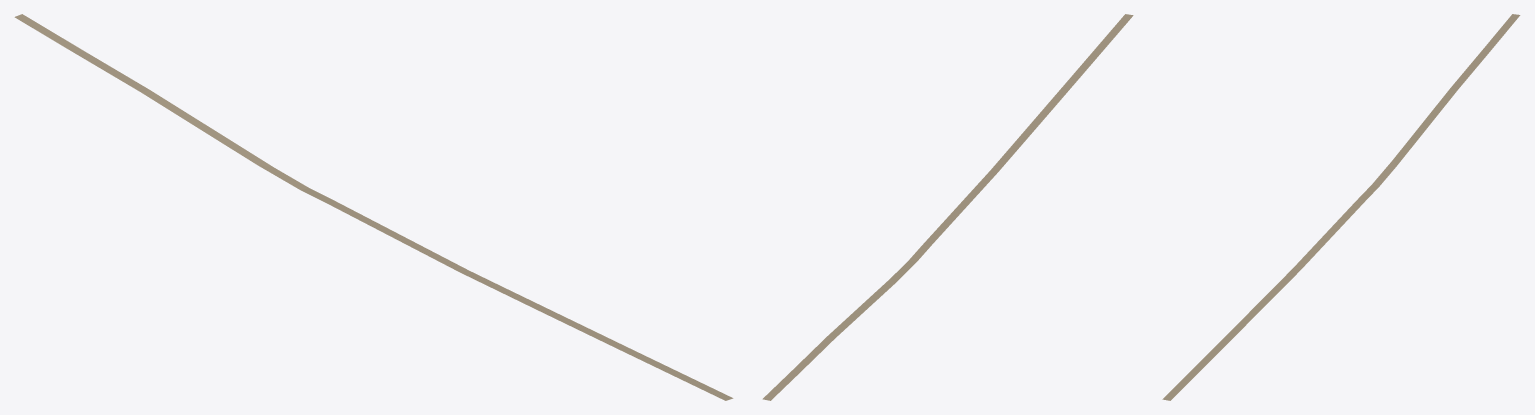
Rendered from farm_10_9_track.glb.
3 renders of one model, left to right at view 1: azimuth 30°, elevation 25°; view 2: azimuth 150°, elevation 25°; view 3: azimuth 330°, elevation 25°, orthographic. The views are drawn at different scales.
Visible parts, largest first — view 1: geometry_0; view 2: geometry_0; view 3: geometry_0.
Part boxes in pixels (left/top/right/bottom): geometry_0: left=14, top=14, right=733, bottom=400; geometry_0: left=762, top=14, right=1133, bottom=400; geometry_0: left=1162, top=14, right=1520, bottom=400.
Bounding box in the file's own units: 57.55 × 7.82 × 357.
